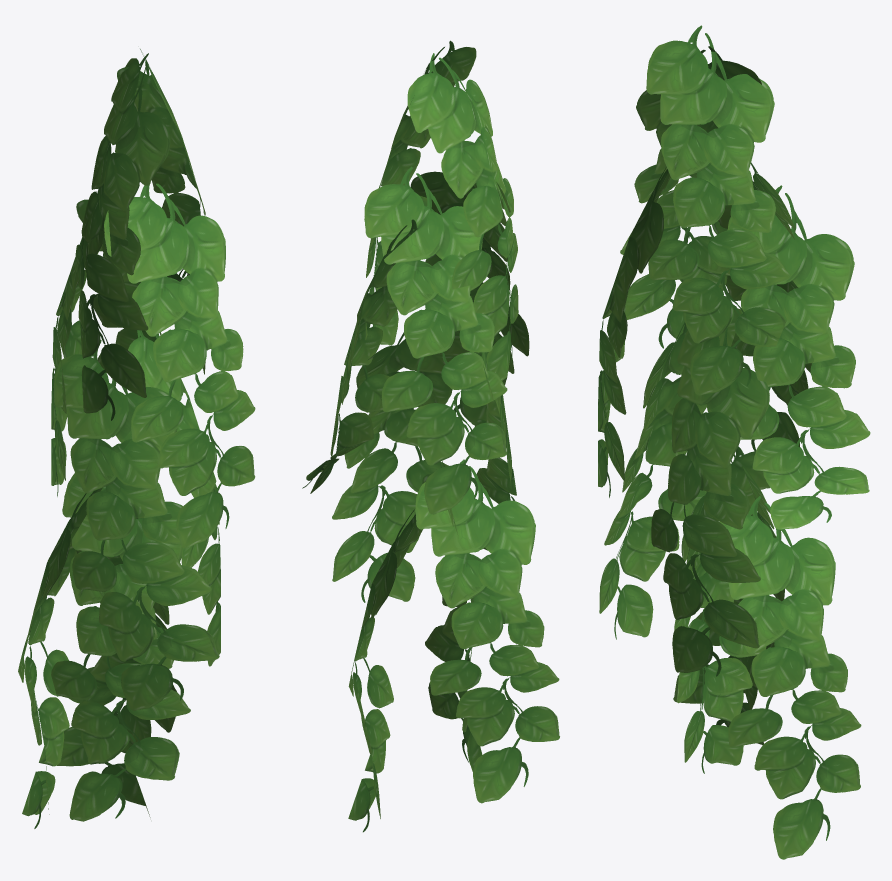
Rendered from SM_Rampicante.fbx.
The picture shows the model from 3 angles, left to right: view 1: azimuth 30°, elevation 25°; view 2: azimuth 150°, elevation 25°; view 3: azimuth 270°, elevation 25°; orthographic projection. The views are drawn at different scales.
Parts seen in each view (by area): view 1: SM_Rampicante; view 2: SM_Rampicante; view 3: SM_Rampicante.
Part boxes in pixels (x1,y1,x2,y2): SM_Rampicante: (18, 49, 255, 828); SM_Rampicante: (302, 40, 559, 832); SM_Rampicante: (598, 25, 870, 859).
Bounding box in the file's own units: 235 × 795 × 250.
